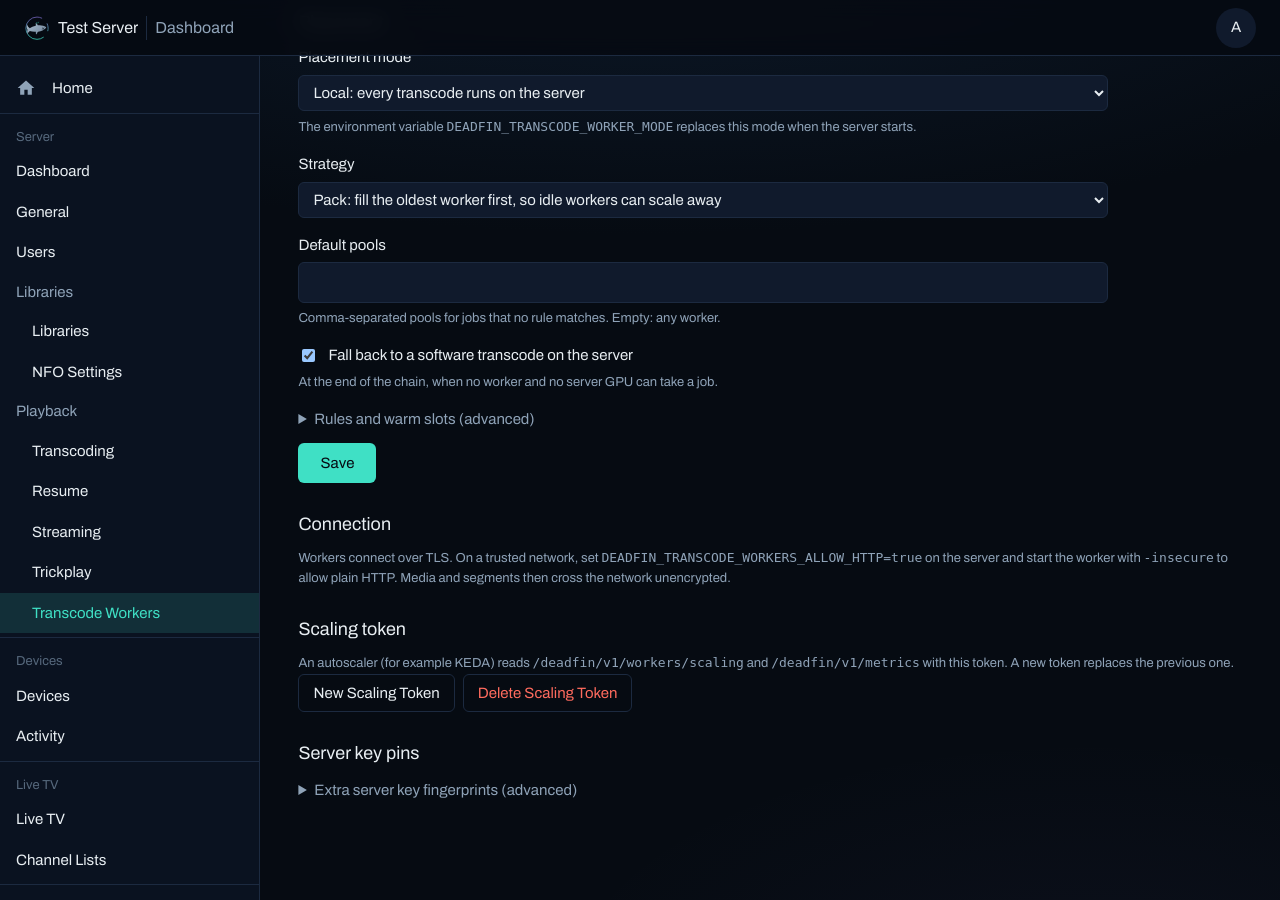
Scenario: transcode workers page › shows a policy the server refuses
The image size is (1280, 900).
(page scrolled)
Click the button "Save" at (337, 463), box [298,442,376,483]
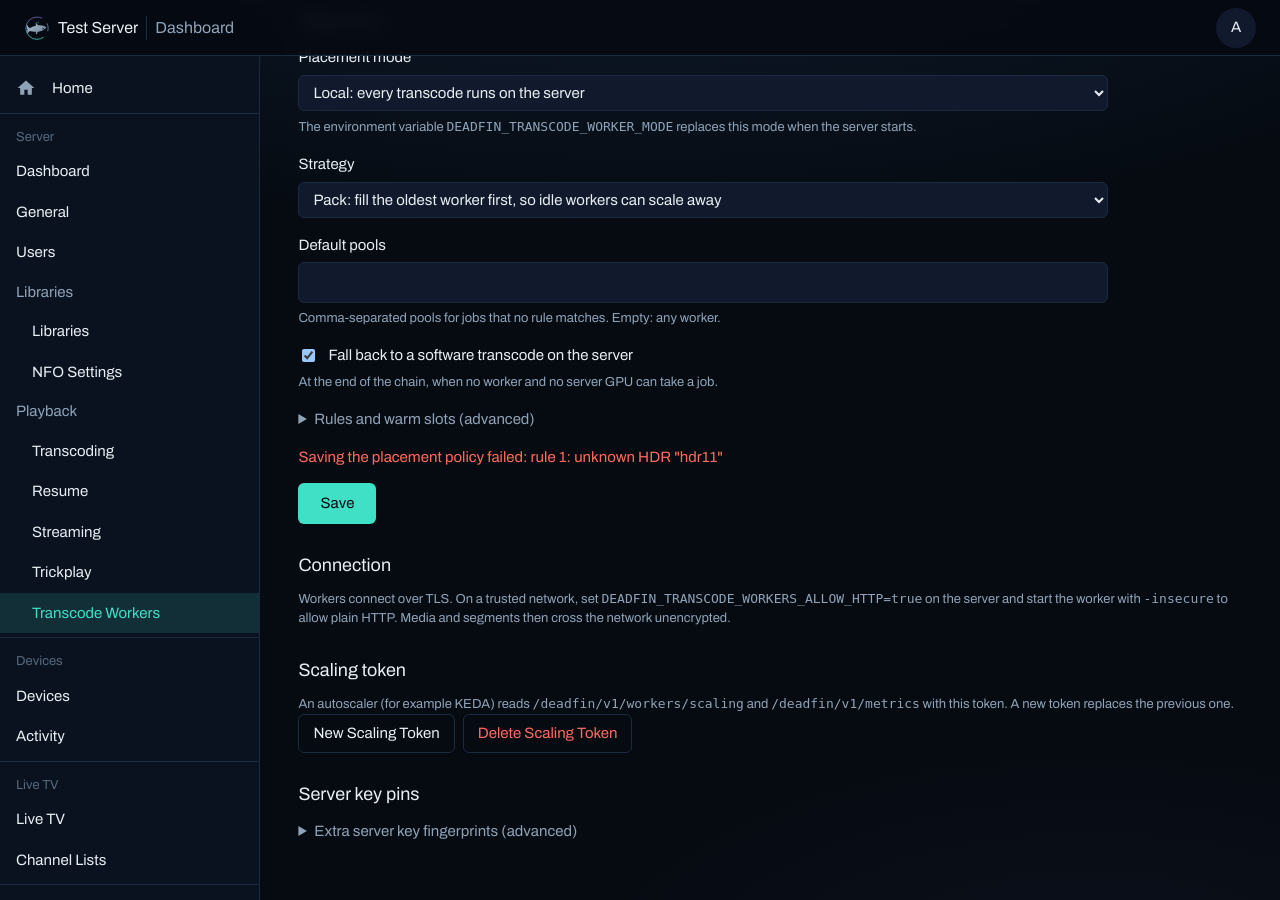
Expected: the message shows "unknown HDR \"hdr11\"", [298,448,723,464]
